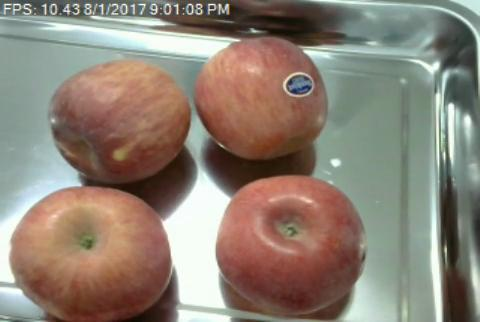apple: (7, 185, 171, 322), (214, 173, 368, 315), (46, 59, 192, 183), (194, 35, 328, 159)
